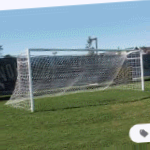goals: (5, 45, 145, 112)
